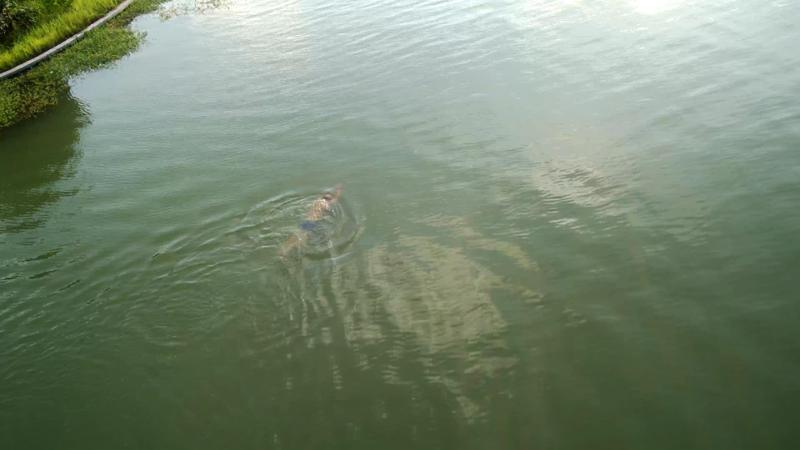swimmers: (279, 181, 343, 251)
